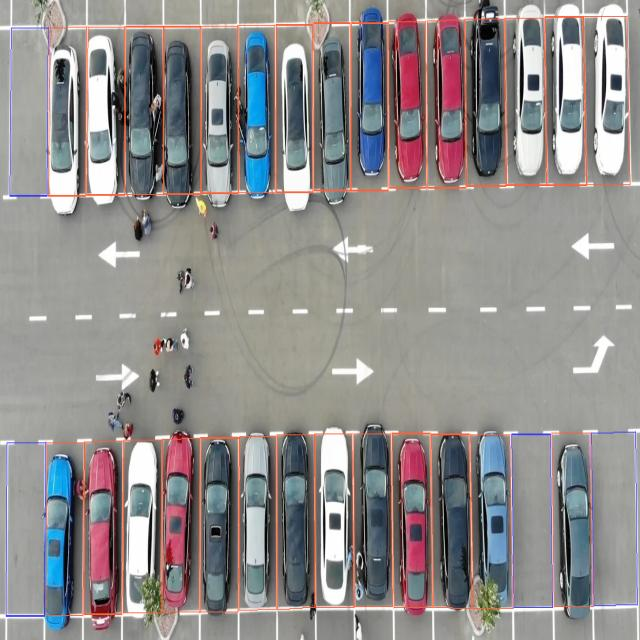space-empty: (590, 432, 639, 610), (510, 434, 554, 612), (7, 444, 45, 617), (8, 29, 46, 192)
space-occupied: (582, 12, 632, 185), (235, 25, 281, 190), (426, 19, 472, 182), (352, 430, 395, 603), (79, 441, 122, 614), (385, 21, 430, 186), (471, 434, 514, 606), (237, 433, 279, 608), (313, 431, 355, 606), (431, 432, 474, 602), (506, 17, 550, 181), (552, 434, 593, 610), (159, 436, 200, 611), (392, 433, 433, 606), (120, 27, 163, 191), (43, 442, 82, 618), (125, 434, 164, 609), (550, 12, 587, 194), (199, 435, 237, 610), (276, 432, 313, 607), (312, 23, 351, 189), (85, 24, 123, 194), (470, 15, 506, 194), (200, 26, 237, 192), (49, 28, 84, 198), (353, 22, 386, 188), (166, 33, 200, 191), (280, 29, 310, 191)
